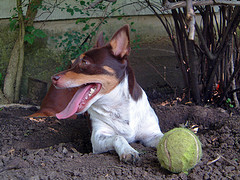tennis ball: (157, 127, 203, 176)
